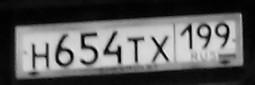license-plateSW: (14, 13, 255, 76)
